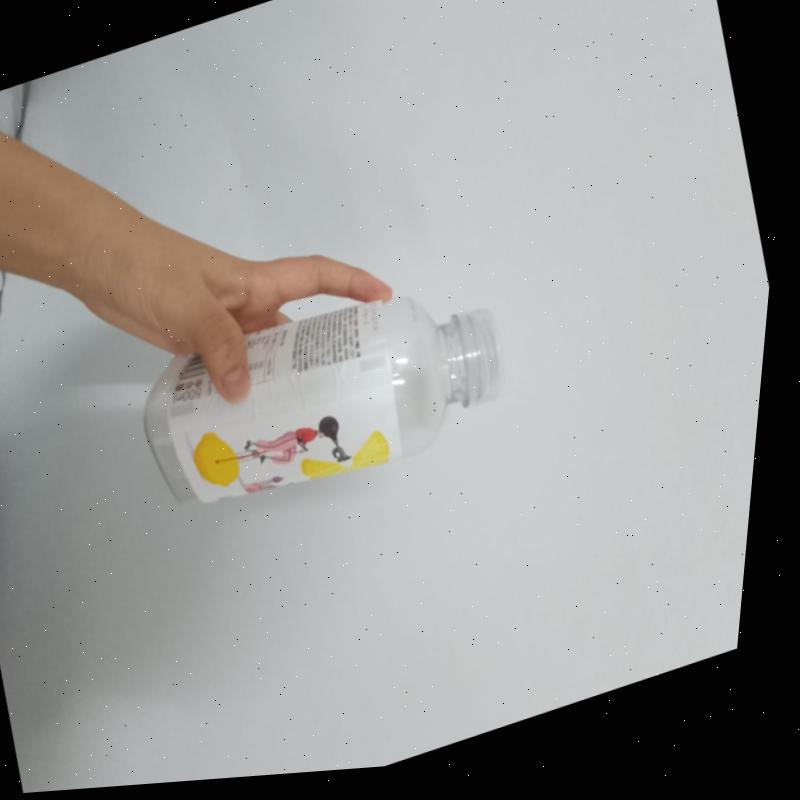botella: (129, 260, 537, 542)
